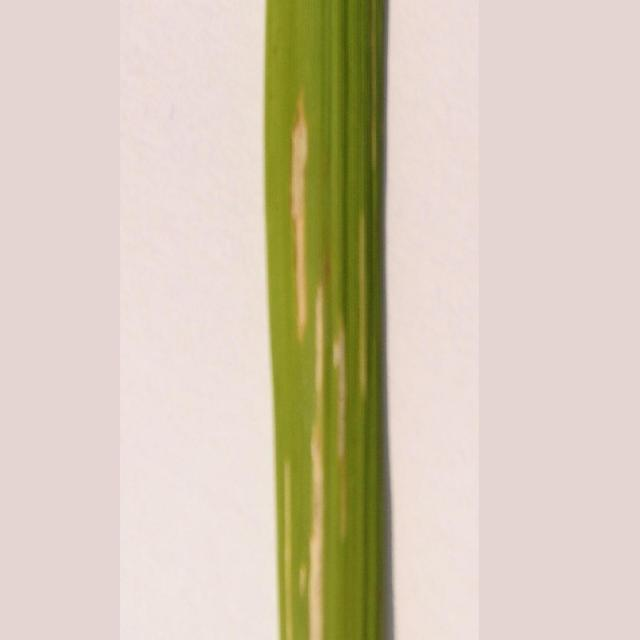leaf blight: (267, 96, 376, 639)
